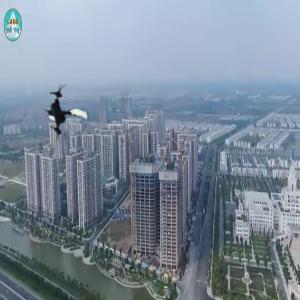drone: (35, 86, 94, 145)
